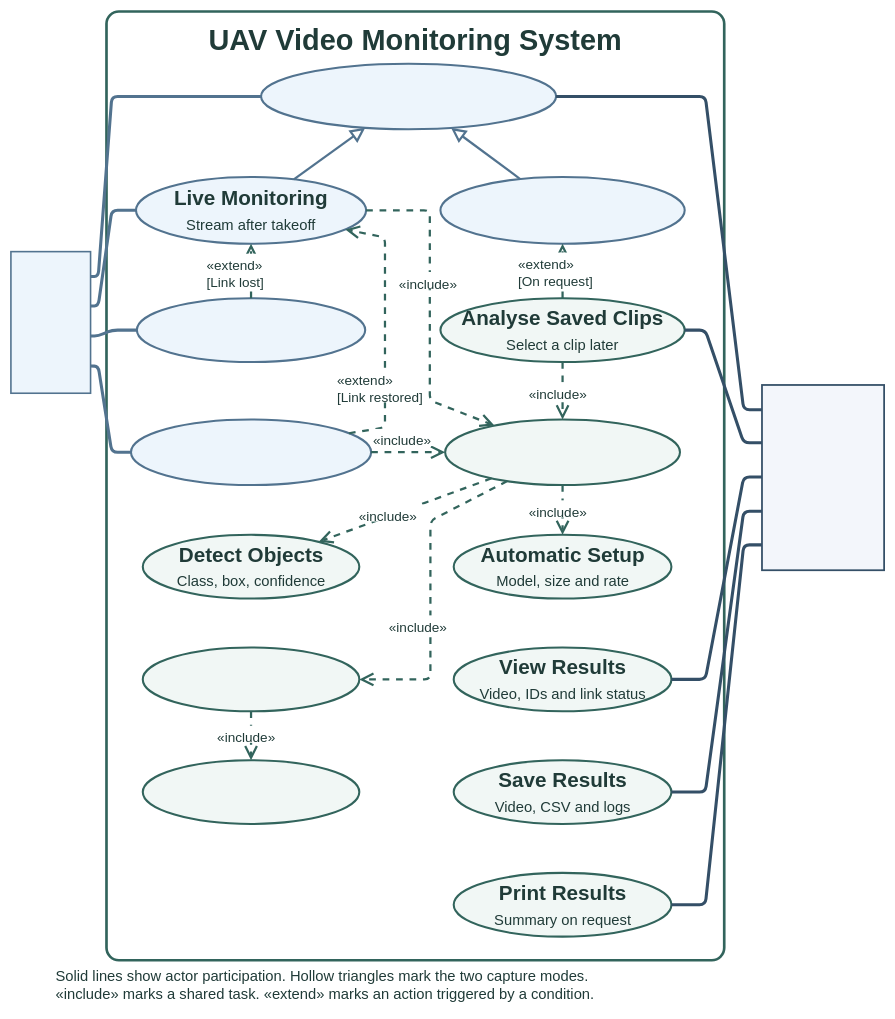
This 895x1019 diagram has some shape labels left out. The shapes that lost their labels are listed below. From the top down, each one's box as (x1, y1, x2, y2) in pixels, then its label:
(260, 62, 557, 130): Run UAV Video Session Select live or periodic recording
(439, 176, 685, 244): Periodic Recording Store timestamped clips
(10, 251, 91, 394): «actor» UAV
(136, 297, 366, 363): Record on UAV Store video during link loss
(130, 418, 372, 486): Recover Missed Video Transfer the saved segment
(444, 418, 681, 486): Analyse Video Use the live feed or a clip
(761, 384, 885, 571): «actor» Admin Operator
(141, 646, 360, 712): Track Objects Match across frames
(141, 759, 360, 825): Assign Track IDs One ID per active track
